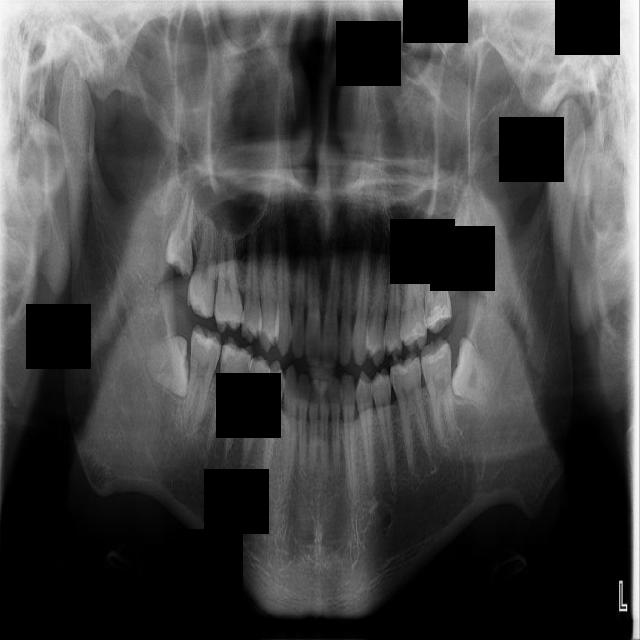3M ESPE Implant: (165, 178, 195, 279)
52: (209, 335, 261, 389), (188, 324, 223, 373), (389, 352, 422, 401), (186, 269, 217, 319), (422, 287, 453, 334), (400, 304, 427, 353)
73: (611, 561, 617, 574)
BioHorizons Implant: (419, 227, 453, 334)
BioLife Implant: (442, 194, 474, 287)
Biomet 3i Implant: (446, 336, 505, 410)
Blue Sky Bio Implant: (419, 337, 457, 446)
Caries: (187, 204, 219, 319)
Implant: (182, 323, 224, 427)
Keystone Dental Implant: (143, 334, 192, 400)
